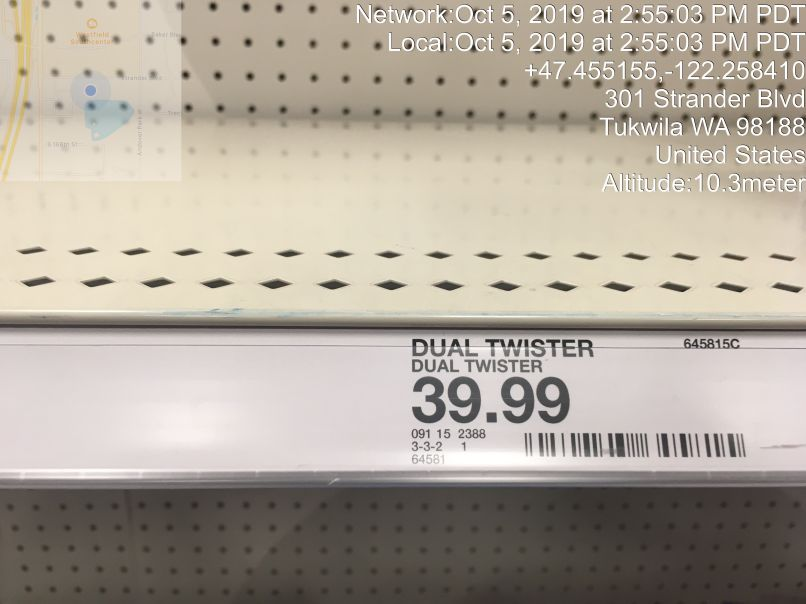Label: (403, 332, 754, 472)
Location: (592, 86, 806, 174)
Time: (346, 1, 806, 57)
Void: (21, 46, 597, 280)
